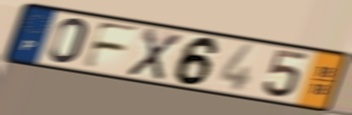0: (47, 16, 90, 65)
4: (216, 41, 255, 94)
5: (263, 48, 311, 100)
6: (171, 36, 223, 88)
F: (79, 20, 143, 71)
X: (124, 26, 184, 83)
